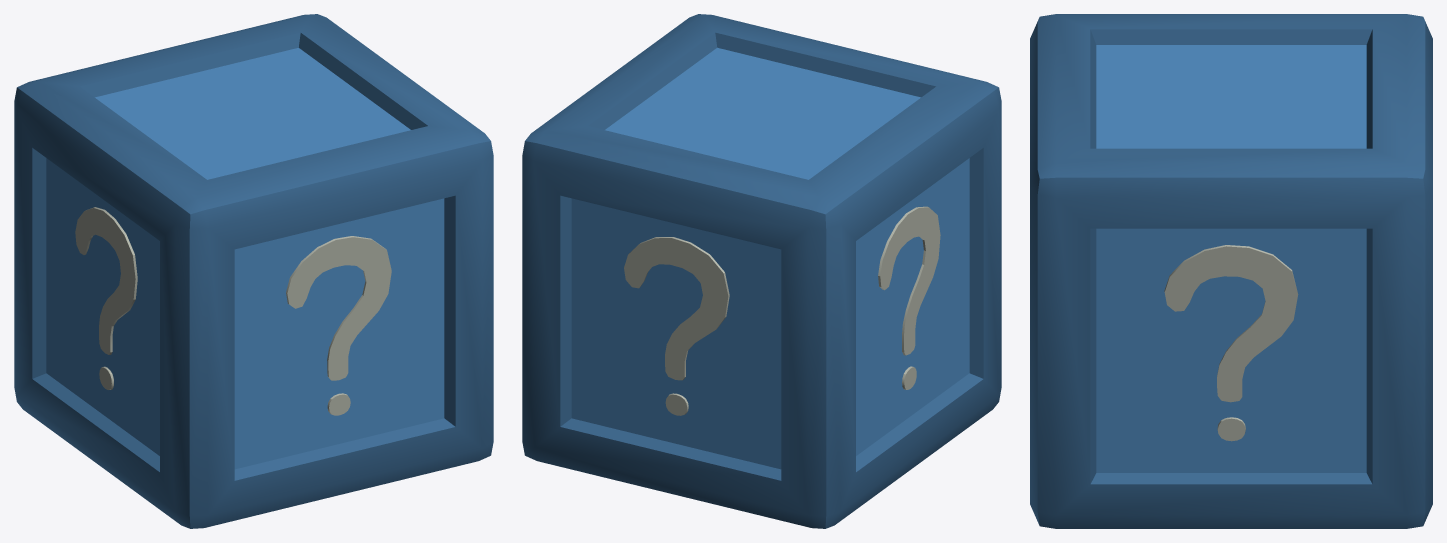
File: quaternius-platformer-game-cube-question.glb
3 renders of one model, left to right at view 1: azimuth 30°, elevation 25°; view 2: azimuth 150°, elevation 25°; view 3: azimuth 270°, elevation 25°, orthographic. The views are drawn at different scales.
Visible parts, largest first — view 1: Cube_Question; view 2: Cube_Question; view 3: Cube_Question.
Part boxes in pixels (x1,y1,x2,y2): Cube_Question: (14,14,493,528); Cube_Question: (522,14,1001,528); Cube_Question: (1030,14,1432,528).
Bounding box in the file's own units: 2.02 × 2.02 × 2.02.
